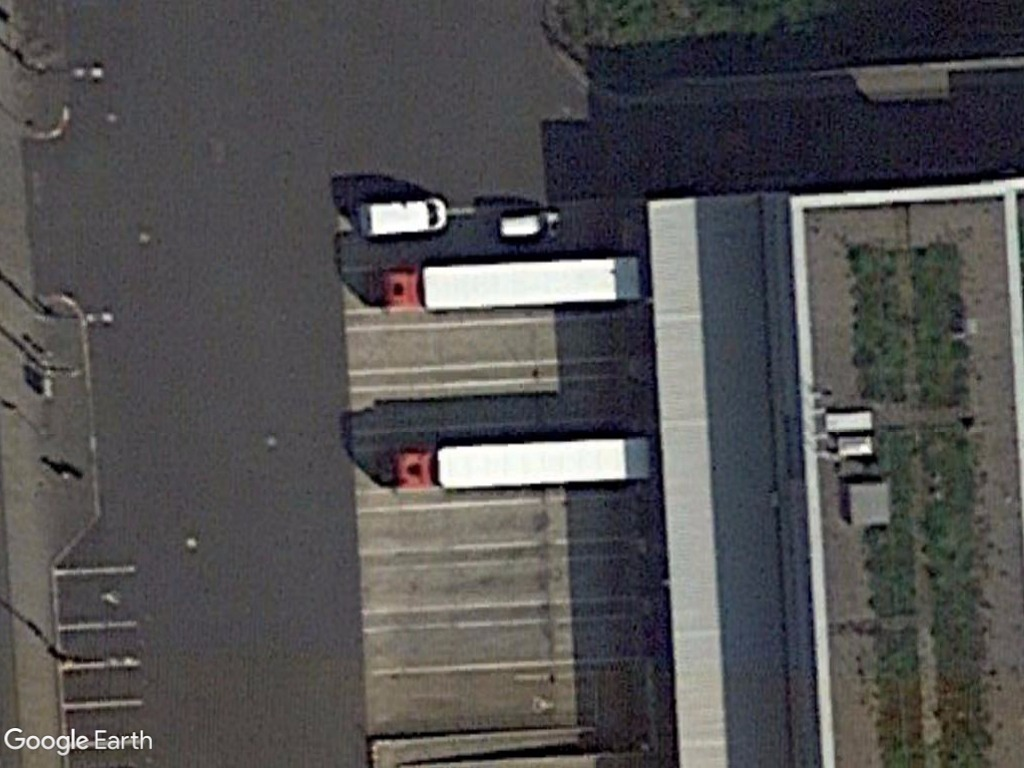longvehicle: (360, 247, 658, 318), (376, 430, 672, 500)
van: (353, 192, 451, 242)
